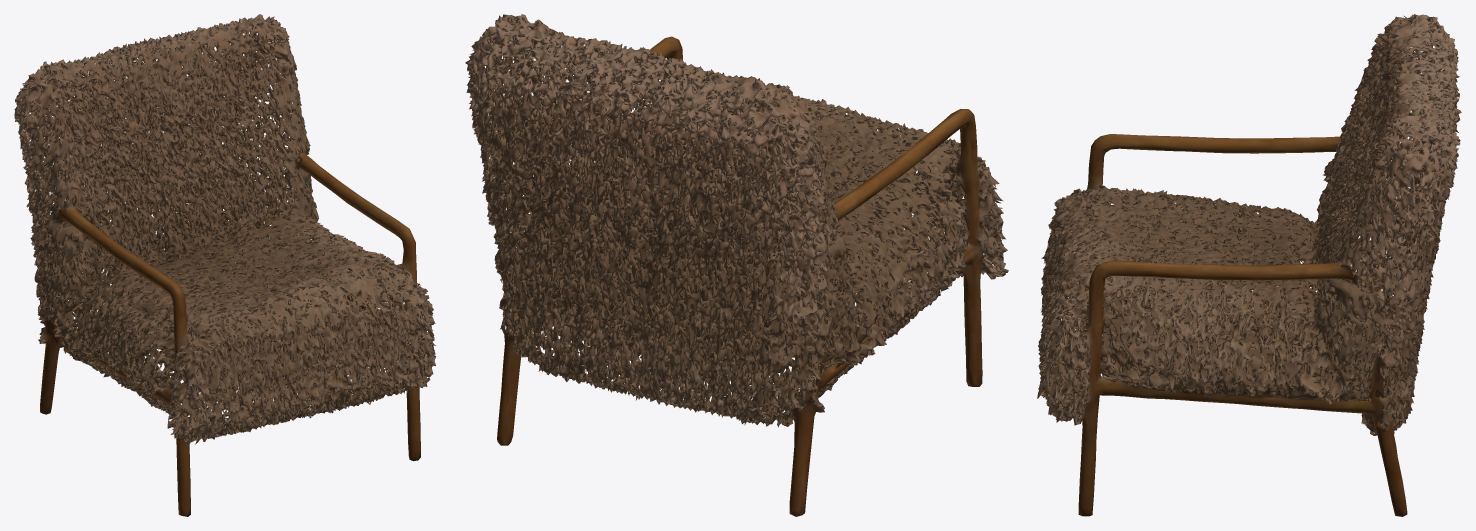
File: item-14.glb
3 renders of one model, left to right at view 1: azimuth 30°, elevation 25°; view 2: azimuth 150°, elevation 25°; view 3: azimuth 270°, elevation 25°, orthographic. The views are drawn at different scales.
Visible parts, largest first — view 1: geometry_0; view 2: geometry_0; view 3: geometry_0.
Part boxes in pixels (left/top/right/bottom): geometry_0: left=14, top=14, right=435, bottom=516; geometry_0: left=465, top=14, right=1008, bottom=516; geometry_0: left=1037, top=14, right=1461, bottom=516.
Size of the model in its own units: 0.8384 by 0.9978 by 0.9936.
1 material, 1 textured.
